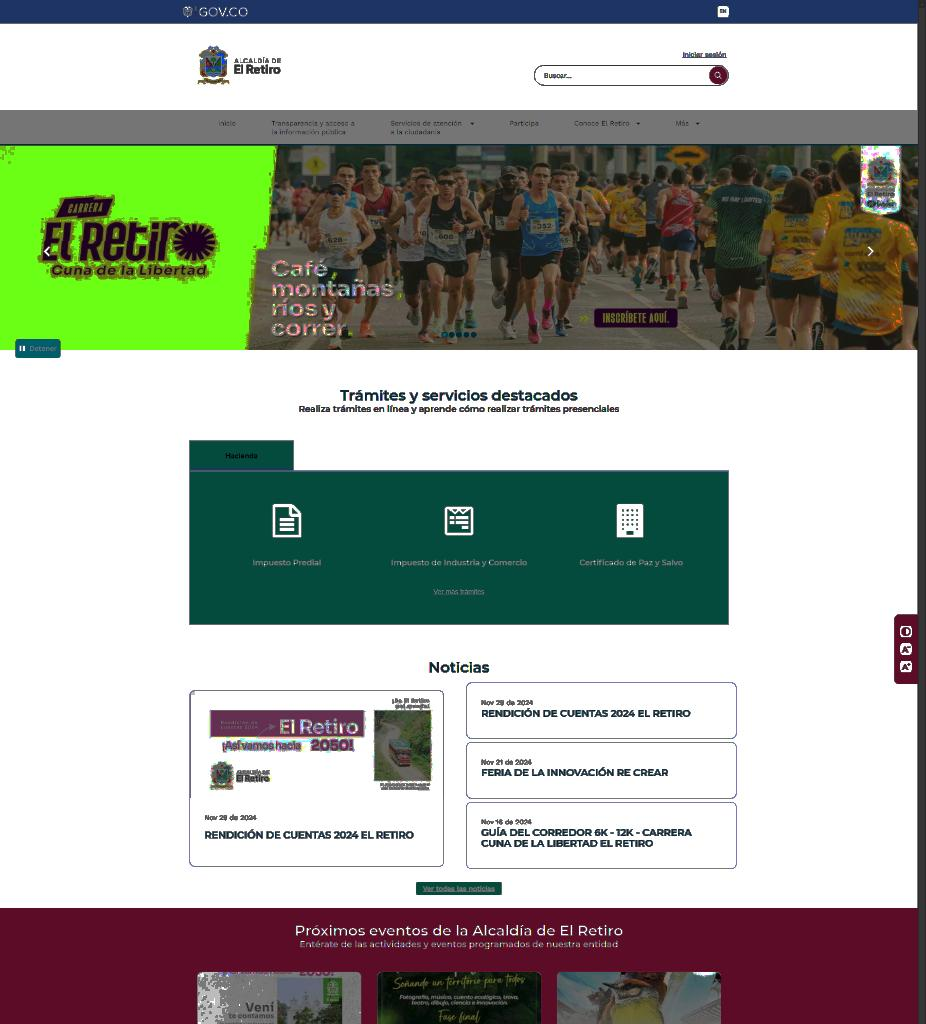banner principal: (0, 141, 920, 357)
barra accesibilidad: (894, 614, 918, 684)
barra govco: (180, 2, 732, 22)
btn atencion ciudadano: (387, 118, 477, 136)
btn buscador: (534, 64, 730, 86)
btn idiomas: (719, 6, 729, 18)
btn inicio: (216, 118, 240, 130)
btn inicio sesion: (680, 50, 728, 60)
btn noticias: (416, 882, 502, 896)
btn participa: (508, 118, 540, 128)
btn transpariencia: (269, 116, 357, 138)
logogovco: (181, 4, 251, 20)
menu principal: (216, 114, 706, 138)
